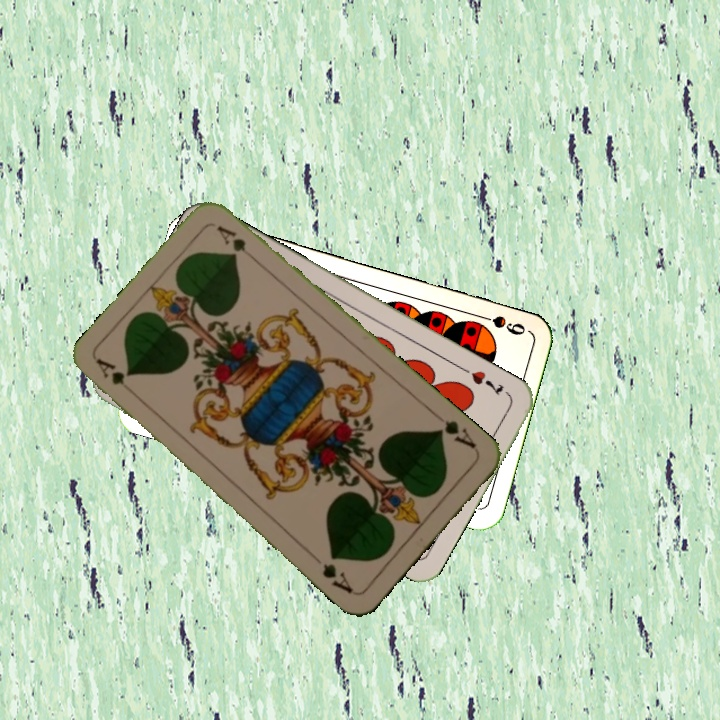GA: (93, 355, 140, 401), (432, 416, 479, 452)
H7: (457, 363, 506, 398)
S9: (471, 309, 528, 338)
